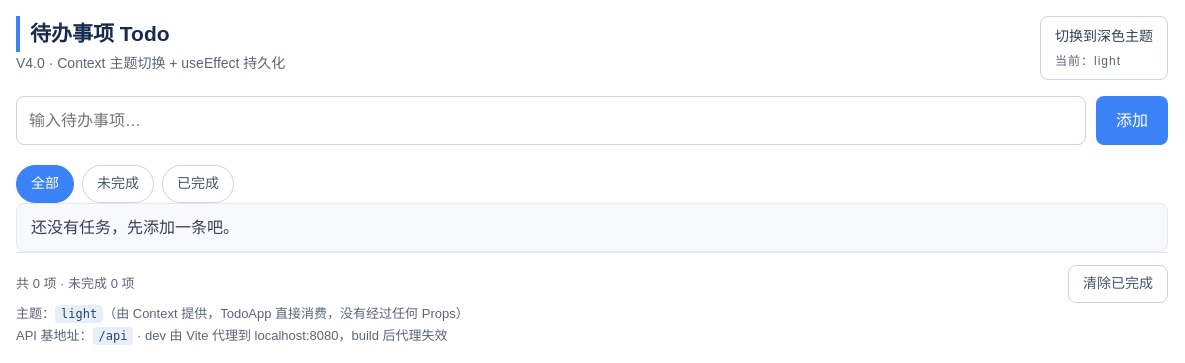
Test: 持久化8：StrictMode 下新增一条只得到一条，id 是事件阶段生成的稳定值
Type "任务A" into the field named "待办事项内容" at point(551, 121), box [16,96,1086,145]
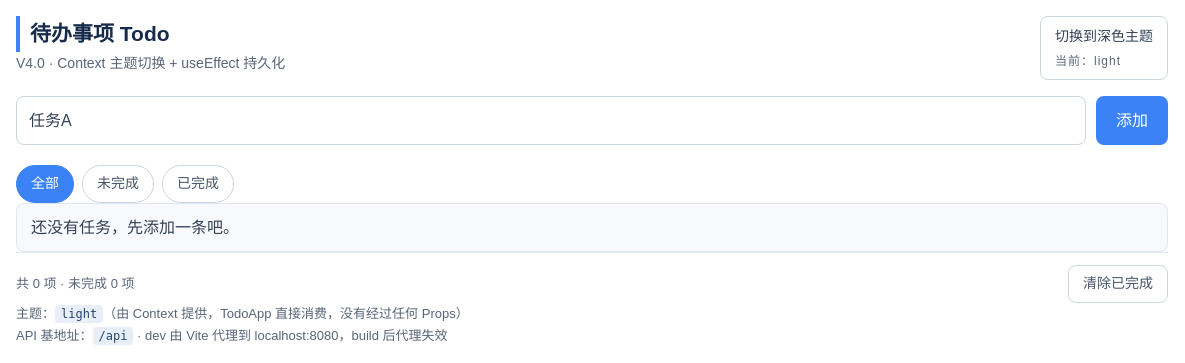
Click the button "添加" at point(1132, 121), box [1096,96,1168,145]
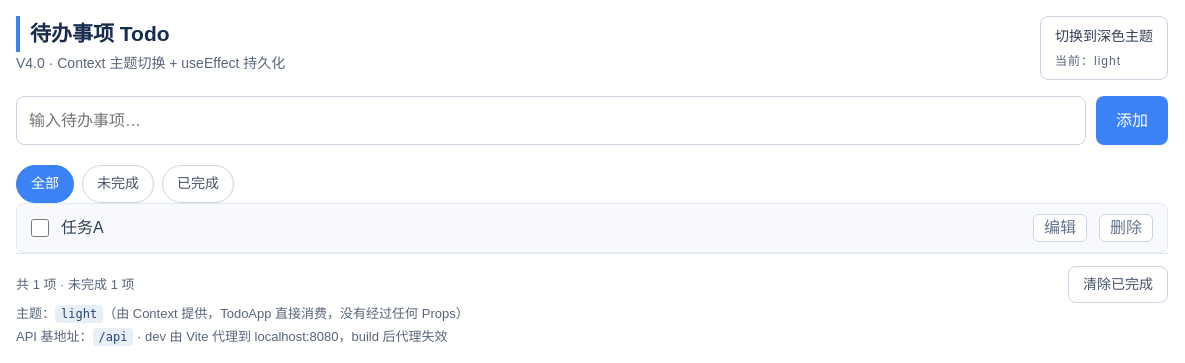
Check: the number of list items is 1, box [16,203,1168,253]
